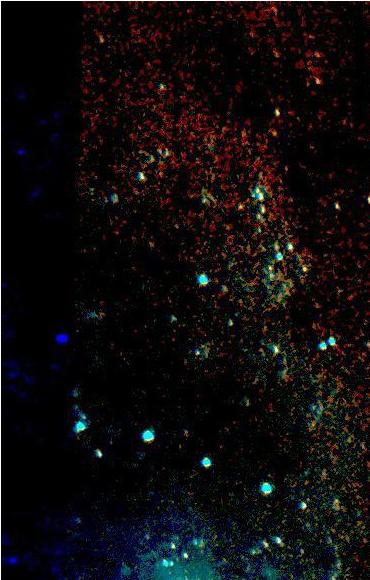star: (256, 120, 286, 150)
